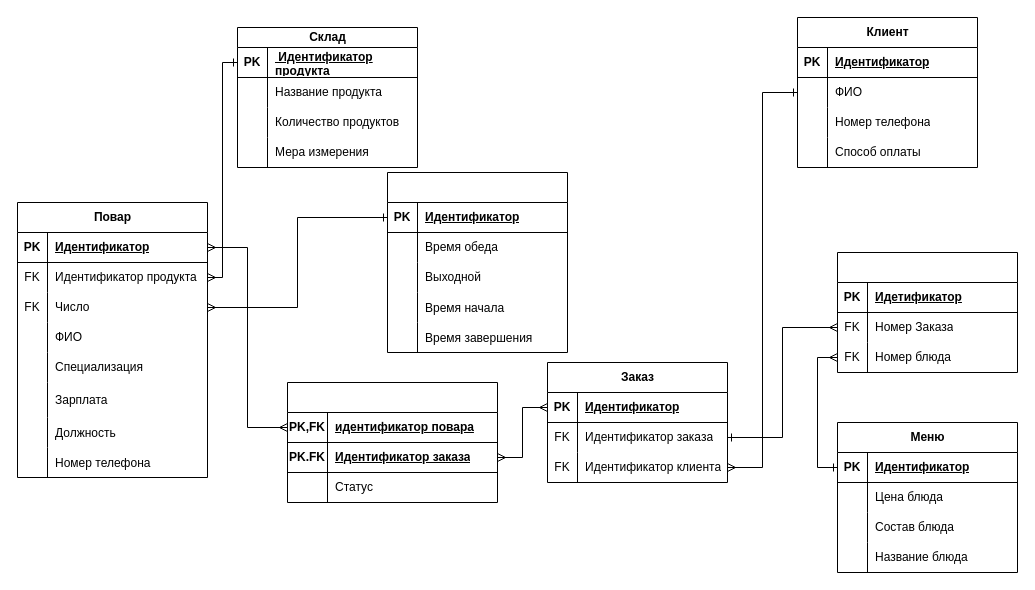
The diagram is 1035 pixels wide and 590 high, and some of its shapes have lost their labels. Here are the shapes that lost their labels. From the top down, the box of each, then its label:
(386, 172, 568, 352): Расписание
(836, 252, 1018, 372): Заказ-Меню
(286, 382, 498, 502): Заказ-Повар
